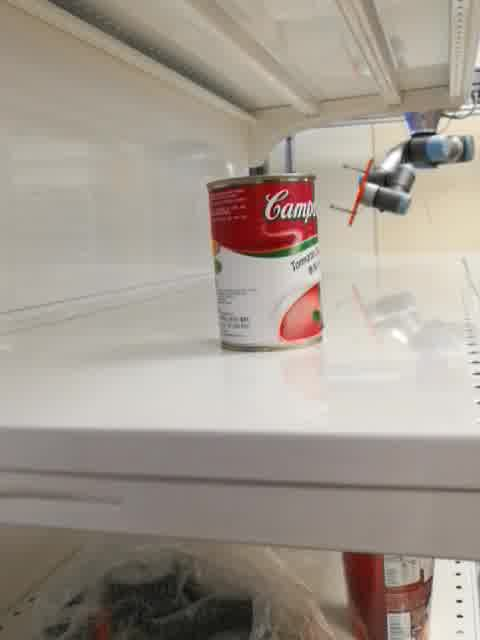tomatosoup: (205, 172, 326, 354)
